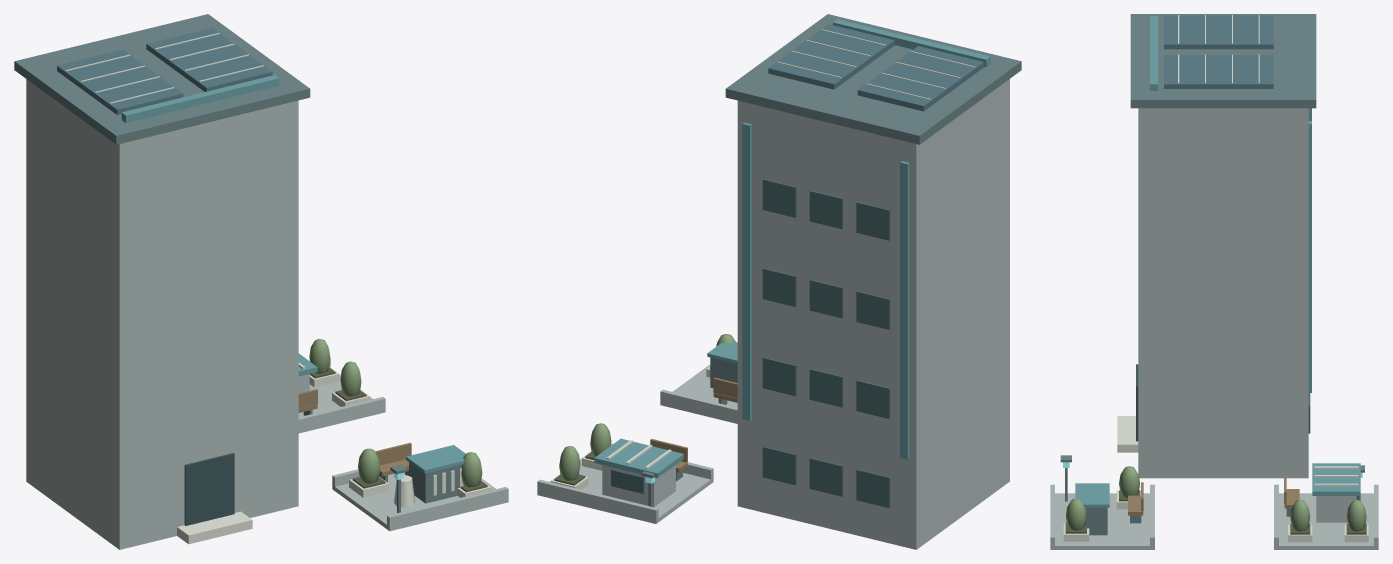
File: vertigo.glb
The picture shows the model from 3 angles, left to right: view 1: azimuth 30°, elevation 25°; view 2: azimuth 150°, elevation 25°; view 3: azimuth 270°, elevation 25°; orthographic projection. The views are drawn at different scales.
Parts seen in each view (by area): view 1: ARENA wall, ARENA roof, ARENA panel (×3), ARENA paving (×2), ARENA metal (×2), ARENA window, ARENA stone (×2), ARENA leaves (×3), ARENA trim; view 2: ARENA wall (×2), ARENA window (×13), ARENA roof, ARENA panel (×2), ARENA metal (×4), ARENA paving (×2), ARENA stone (×2), ARENA canopy, ARENA leaves; view 3: ARENA wall (×2), ARENA roof, ARENA panel (×3), ARENA paving (×2), ARENA metal (×3), ARENA leaves (×4), ARENA canopy, ARENA trim.
Part boxes in pixels (box(x1,y1,x2,y2)): ARENA wall: box(26, 79, 298, 549); ARENA roof: box(14, 14, 310, 144); ARENA panel (×3): box(57, 27, 465, 473); ARENA paving (×2): box(298, 368, 508, 531); ARENA metal (×2): box(121, 75, 461, 503); ARENA window: box(184, 453, 234, 525); ARENA stone (×2): box(298, 397, 508, 526); ARENA leaves (×3): box(340, 361, 482, 487); ARENA trim: box(177, 511, 252, 544); ARENA wall (×2): box(602, 79, 1009, 549); ARENA window (×13): box(611, 179, 890, 507); ARENA roof: box(725, 14, 1021, 144); ARENA panel (×2): box(768, 24, 983, 111); ARENA metal (×4): box(710, 19, 990, 459); ARENA paving (×2): box(537, 364, 737, 523); ARENA stone (×2): box(537, 389, 737, 520); ARENA canopy: box(594, 438, 683, 478); ARENA leaves: box(559, 446, 580, 480); ARENA wall (×2): box(1138, 108, 1356, 522); ARENA roof: box(1130, 14, 1316, 108); ARENA panel (×3): box(1075, 15, 1273, 507); ARENA paving (×2): box(1050, 493, 1378, 549); ARENA metal (×3): box(1084, 16, 1311, 535); ARENA leaves (×4): box(1066, 466, 1366, 531); ARENA canopy: box(1312, 463, 1360, 495); ARENA trim: box(1117, 416, 1138, 452).
Bounding box in the file's own units: 8.17 × 9.6 × 7.34.
